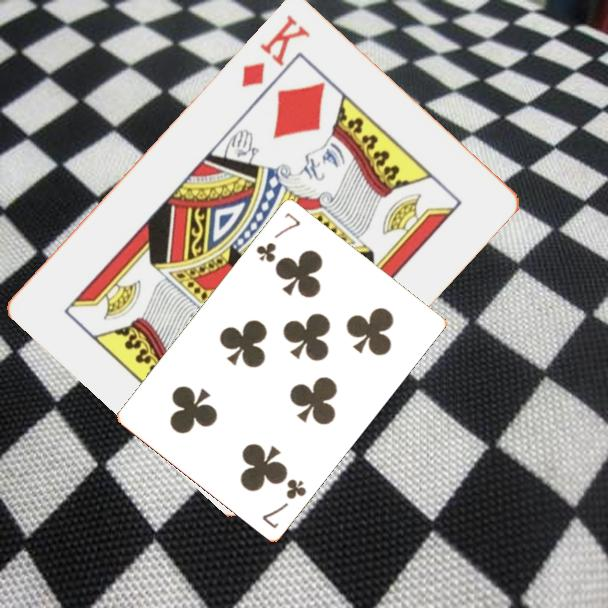c07: (252, 208, 303, 265), (258, 475, 309, 531)
d13: (237, 10, 314, 90)
